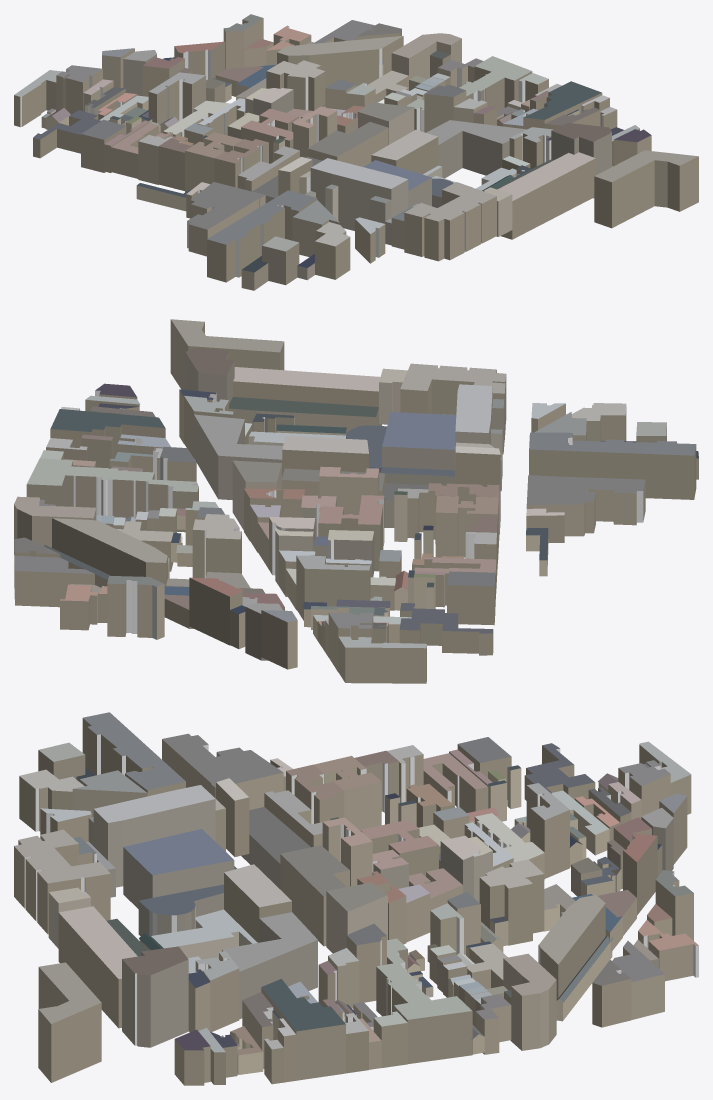
3 views of the same model, one above another, from view 1: azimuth 30°, elevation 25°; view 2: azimuth 150°, elevation 25°; view 3: azimuth 270°, elevation 25° (orthographic). The views are drawn at different scales.
Visible parts, largest first — view 1: tuile; view 2: tuile; view 3: tuile.
Boxes of the visible parts, box(x1,y1,x2,y2) form: tuile: box(14, 14, 698, 290); tuile: box(14, 319, 698, 683); tuile: box(14, 712, 698, 1085).
Size of the model in its own units: 279 by 40.95 by 272.
